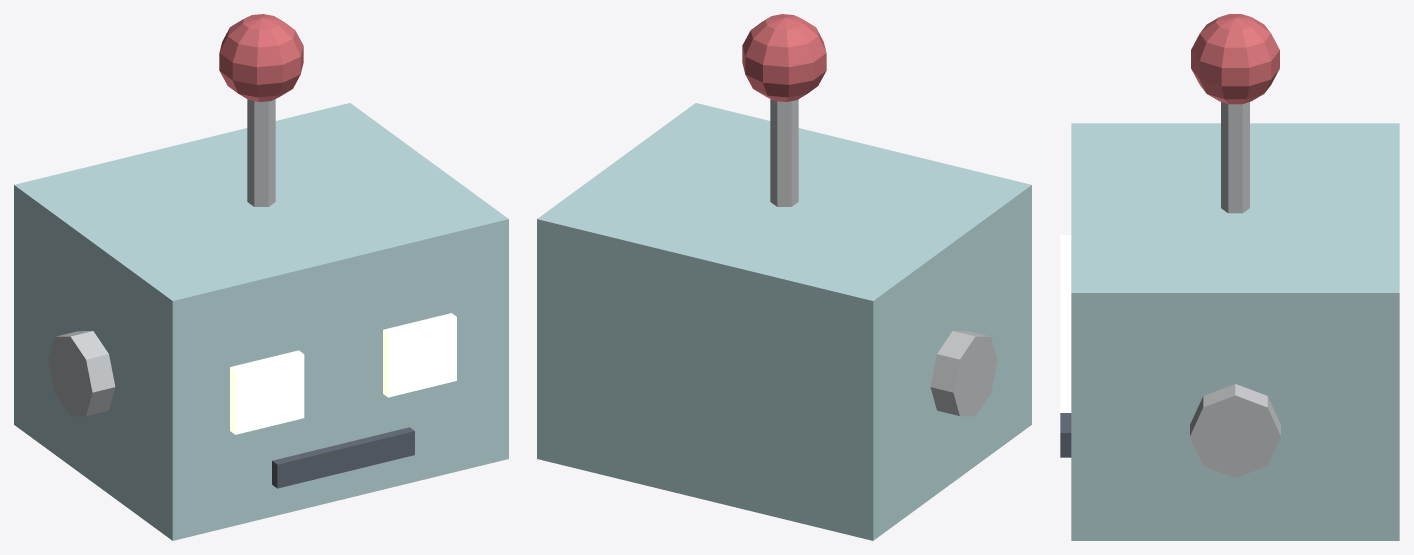
The model's file is toy_robot_head.glb.
3 renders of one model, left to right at view 1: azimuth 30°, elevation 25°; view 2: azimuth 150°, elevation 25°; view 3: azimuth 270°, elevation 25°, orthographic. The views are drawn at different scales.
Parts seen in each view (by area): view 1: Head, Eye.-1, Ear bolt.-1, Antenna tip, Mouth; view 2: Head, Ear bolt.-1, Antenna tip; view 3: Head, Ear bolt.-1, Antenna tip, Eye.-1, Mouth.
Boxes of the visible parts, <box> form: Head: <box>14,103,508,540</box>; Eye.-1: <box>230,313,456,434</box>; Ear bolt.-1: <box>48,99,275,416</box>; Antenna tip: <box>219,14,303,101</box>; Mouth: <box>272,427,414,488</box>; Head: <box>537,103,1031,540</box>; Ear bolt.-1: <box>770,99,997,416</box>; Antenna tip: <box>742,14,826,101</box>; Head: <box>1071,123,1399,540</box>; Ear bolt.-1: <box>1190,102,1280,477</box>; Antenna tip: <box>1191,14,1279,104</box>; Eye.-1: <box>1060,235,1071,412</box>; Mouth: <box>1060,413,1071,457</box>.
Bounding box in the file's own units: 0.25 × 0.265 × 0.186.
